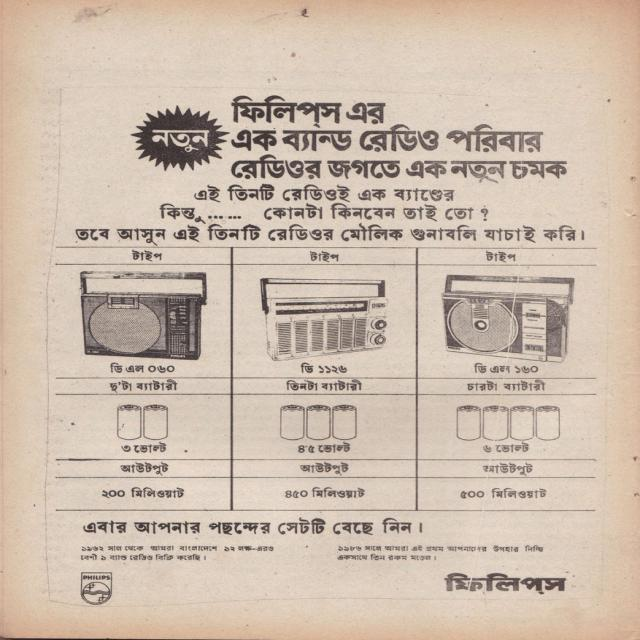advertisement: (47, 83, 612, 610)
